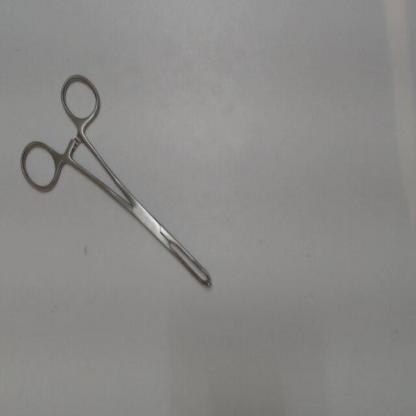Allis Tissue Forceps: (13, 65, 218, 296)
